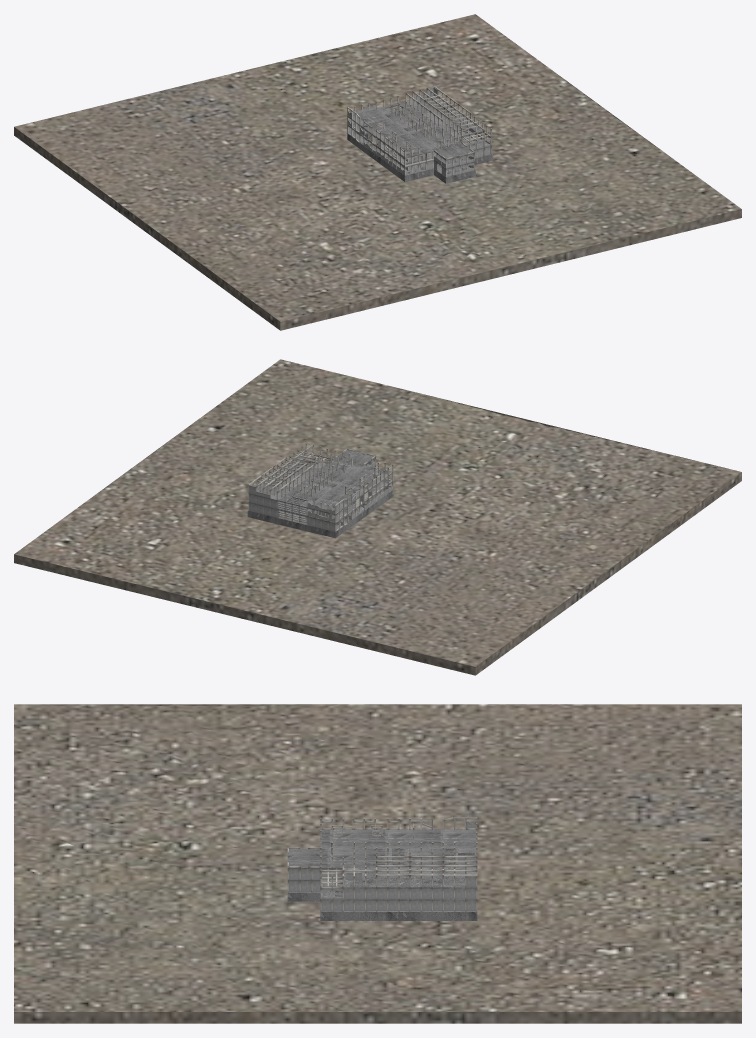
Rendered from Abbadon_build.fbx.
3 views of the same model, one above another, from view 1: azimuth 30°, elevation 25°; view 2: azimuth 150°, elevation 25°; view 3: azimuth 270°, elevation 25° (orthographic). The views are drawn at different scales.
Visible parts, largest first — view 1: Plane, Cube.023, Cube.005, Cube.092, Cube.001; view 2: Plane, Cube.023, Cube.005, Cube.092, Cube.001; view 3: Plane, Cube.023, Cube.005, Cube.092, Cube.088, Cube.044.
Part boxes in pixels (x1,y1,x2,y2): Plane: [14, 14, 741, 330]; Cube.023: [377, 102, 474, 160]; Cube.005: [347, 109, 433, 158]; Cube.092: [407, 95, 482, 138]; Cube.001: [347, 132, 433, 181]; Plane: [14, 359, 741, 675]; Cube.023: [277, 450, 375, 507]; Cube.005: [306, 465, 393, 515]; Cube.092: [248, 457, 325, 500]; Cube.001: [306, 488, 393, 538]; Plane: [14, 704, 741, 1023]; Cube.023: [287, 848, 476, 869]; Cube.005: [320, 829, 476, 848]; Cube.092: [342, 868, 477, 888]; Cube.088: [320, 911, 477, 920]; Cube.044: [320, 880, 477, 900].
Size of the model in its own units: 24233 by 2104 by 24233.
